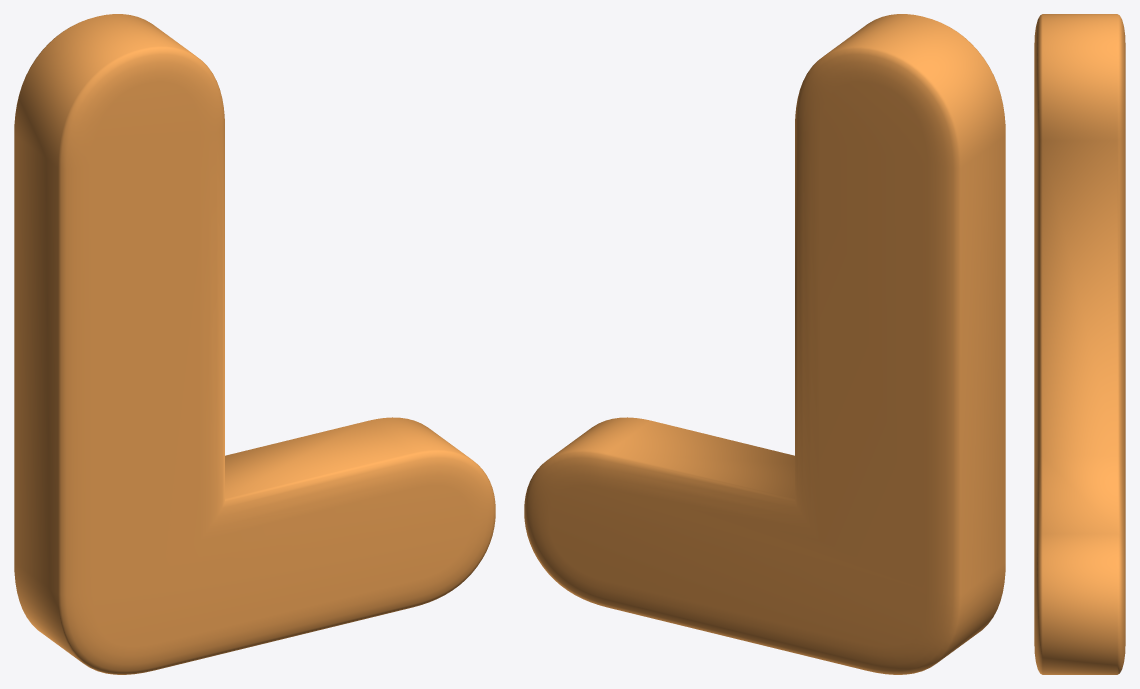
File: RA_Letter_L.fbx
3 renders of one model, left to right at view 1: azimuth 30°, elevation 25°; view 2: azimuth 150°, elevation 25°; view 3: azimuth 270°, elevation 25°, orthographic. The views are drawn at different scales.
Parts seen in each view (by area): view 1: RA_Letter_L; view 2: RA_Letter_L; view 3: RA_Letter_L.
Boxes of the visible parts, bbox=[...] form: RA_Letter_L: bbox=[14, 14, 495, 674]; RA_Letter_L: bbox=[524, 14, 1005, 674]; RA_Letter_L: bbox=[1034, 14, 1125, 674].
Size of the model in its own units: 132 by 180 by 28.
